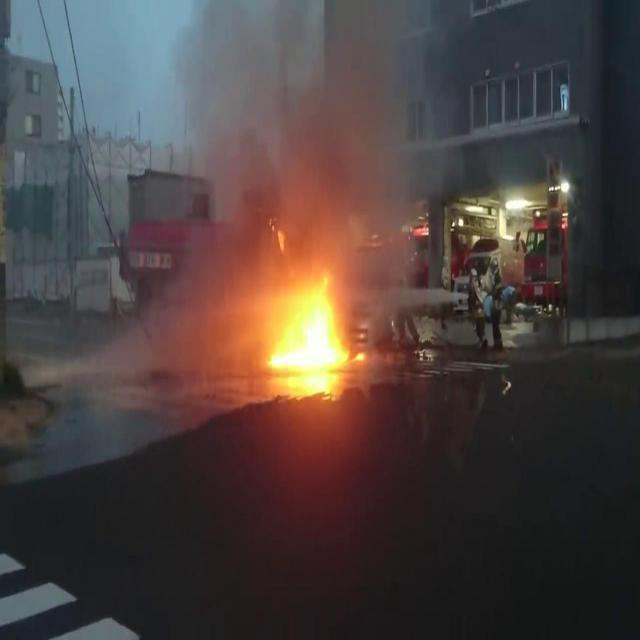Fire: (264, 295, 344, 370), (351, 350, 367, 362)
